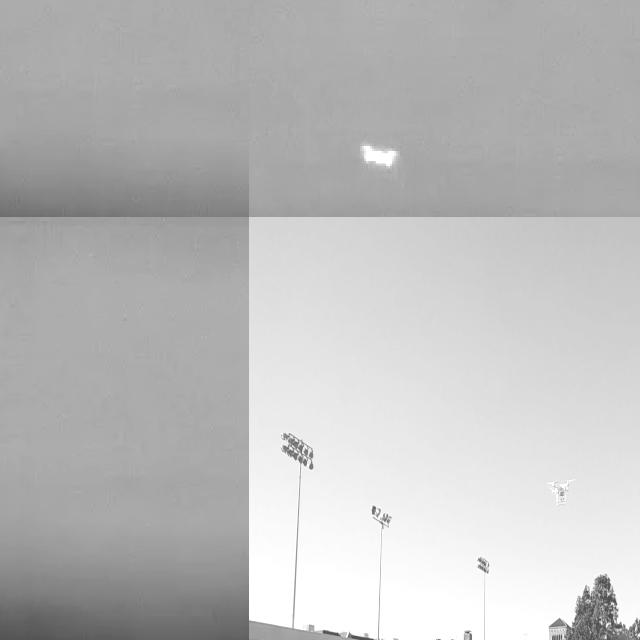1: (349, 141, 409, 176)
drone: (546, 474, 573, 504)
